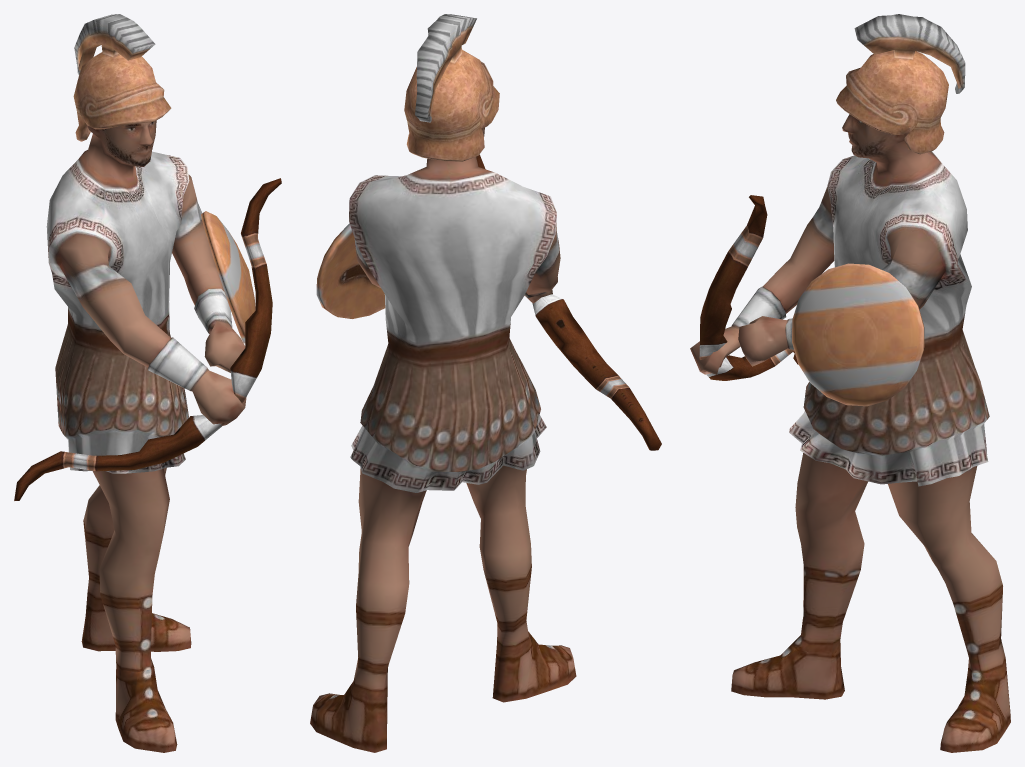
Rendered from 3-toxotes.glb.
3 renders of one model, left to right at view 1: azimuth 30°, elevation 25°; view 2: azimuth 150°, elevation 25°; view 3: azimuth 270°, elevation 25°, orthographic. The views are drawn at different scales.
Bounding box in the file's own units: 0.9586 × 2.21 × 0.9391.
4 materials, 4 textured.
